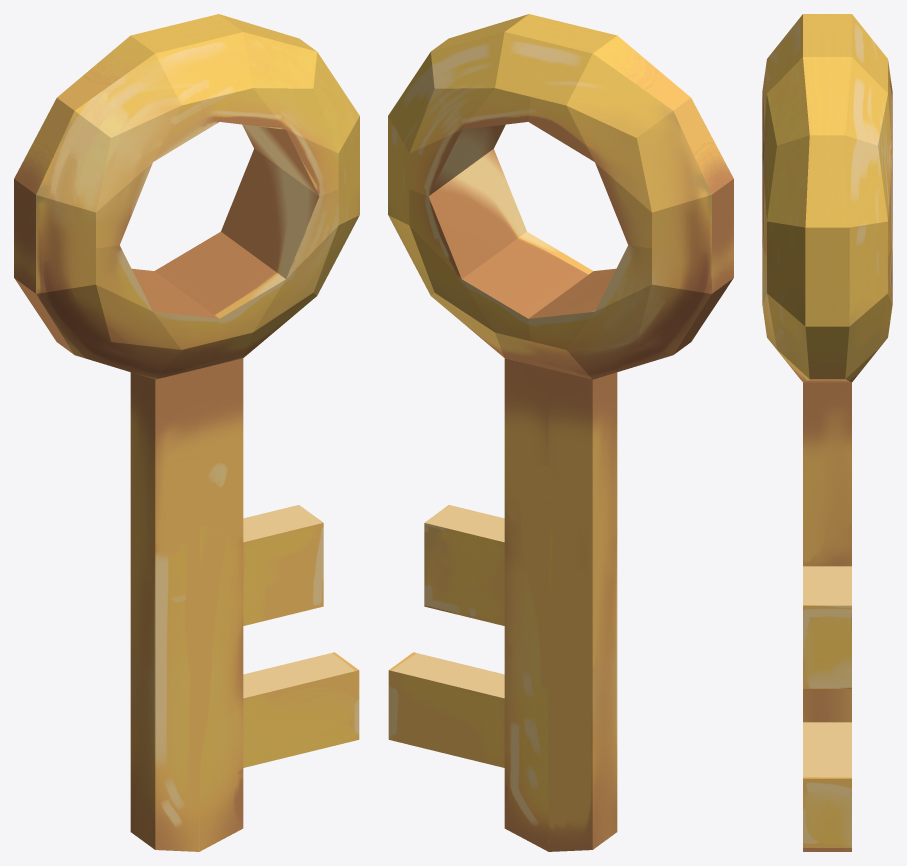
The model's file is Key.fbx.
The picture shows the model from 3 angles, left to right: view 1: azimuth 30°, elevation 25°; view 2: azimuth 150°, elevation 25°; view 3: azimuth 270°, elevation 25°; orthographic projection.
Visible parts, largest first — view 1: Key; view 2: Key; view 3: Key.
Part boxes in pixels (x1=…): Key: x1=14, y1=14, x2=359, y2=851; Key: x1=388, y1=14, x2=733, y2=851; Key: x1=762, y1=14, x2=892, y2=851.
Size of the model in its own units: 1.94 by 4.64 by 0.6774.
